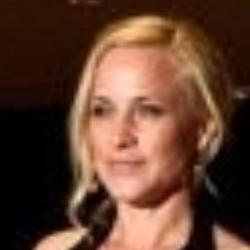face: (46, 8, 242, 214)
